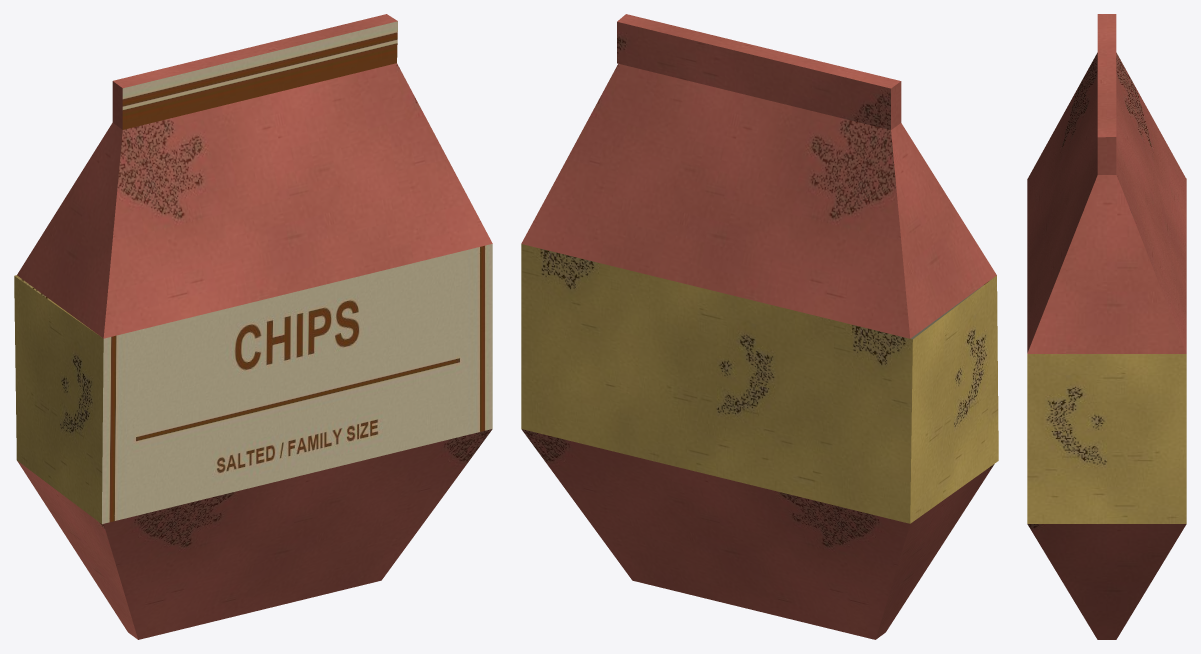
The model's file is chips_v2.glb.
3 views of the same model, side by side, from view 1: azimuth 30°, elevation 25°; view 2: azimuth 150°, elevation 25°; view 3: azimuth 270°, elevation 25° (orthographic). The views are drawn at different scales.
Visible parts, largest first — view 1: Variant_chips_2; view 2: Variant_chips_2; view 3: Variant_chips_2.
Part boxes in pixels (left/top/right/bottom): Variant_chips_2: left=14, top=14, right=492, bottom=639; Variant_chips_2: left=521, top=14, right=998, bottom=639; Variant_chips_2: left=1027, top=14, right=1186, bottom=639.
Bounding box in the file's own units: 0.1772 × 0.24 × 0.068.
3 materials, 3 textured.
